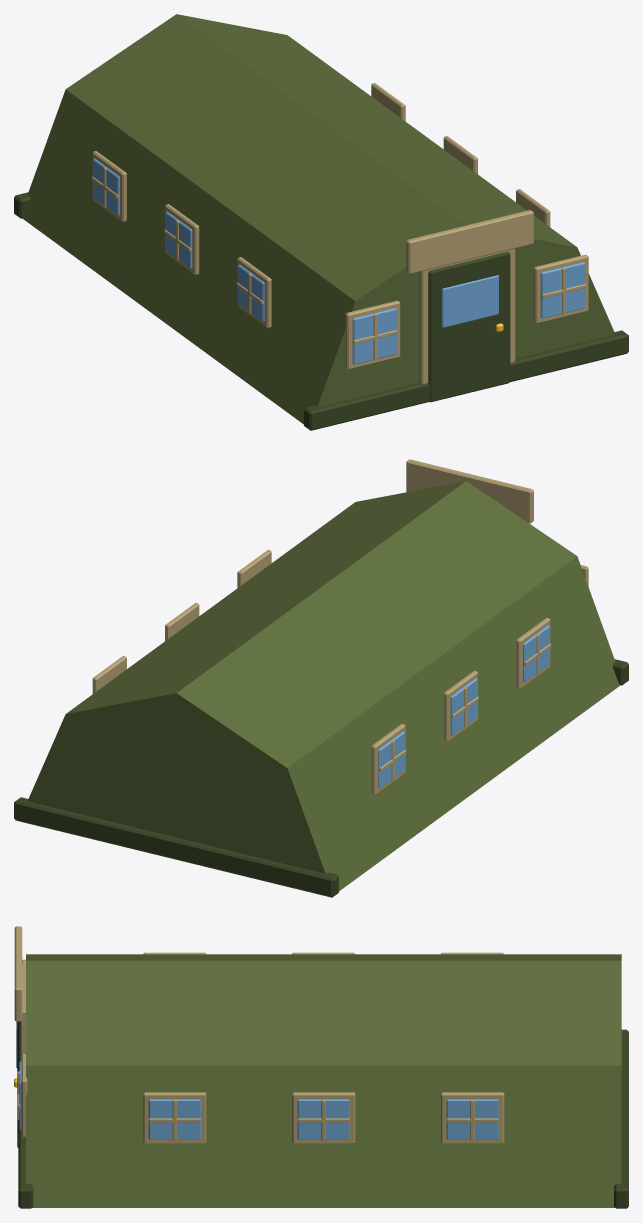
File: Barracks.fbx
The picture shows the model from 3 angles, top to bottom: view 1: azimuth 30°, elevation 25°; view 2: azimuth 150°, elevation 25°; view 3: azimuth 270°, elevation 25°; orthographic projection. The views are drawn at different scales.
Visible parts, largest first — view 1: Barracks; view 2: Barracks; view 3: Barracks.
Boxes of the visible parts, x1,y1,x2,y2 form: Barracks: [14, 14, 628, 430]; Barracks: [14, 459, 628, 897]; Barracks: [14, 926, 628, 1208].
Bounding box in the file's own units: 10.2 × 5.1 × 16.52.
Materials: 1 (1 with a texture image).
